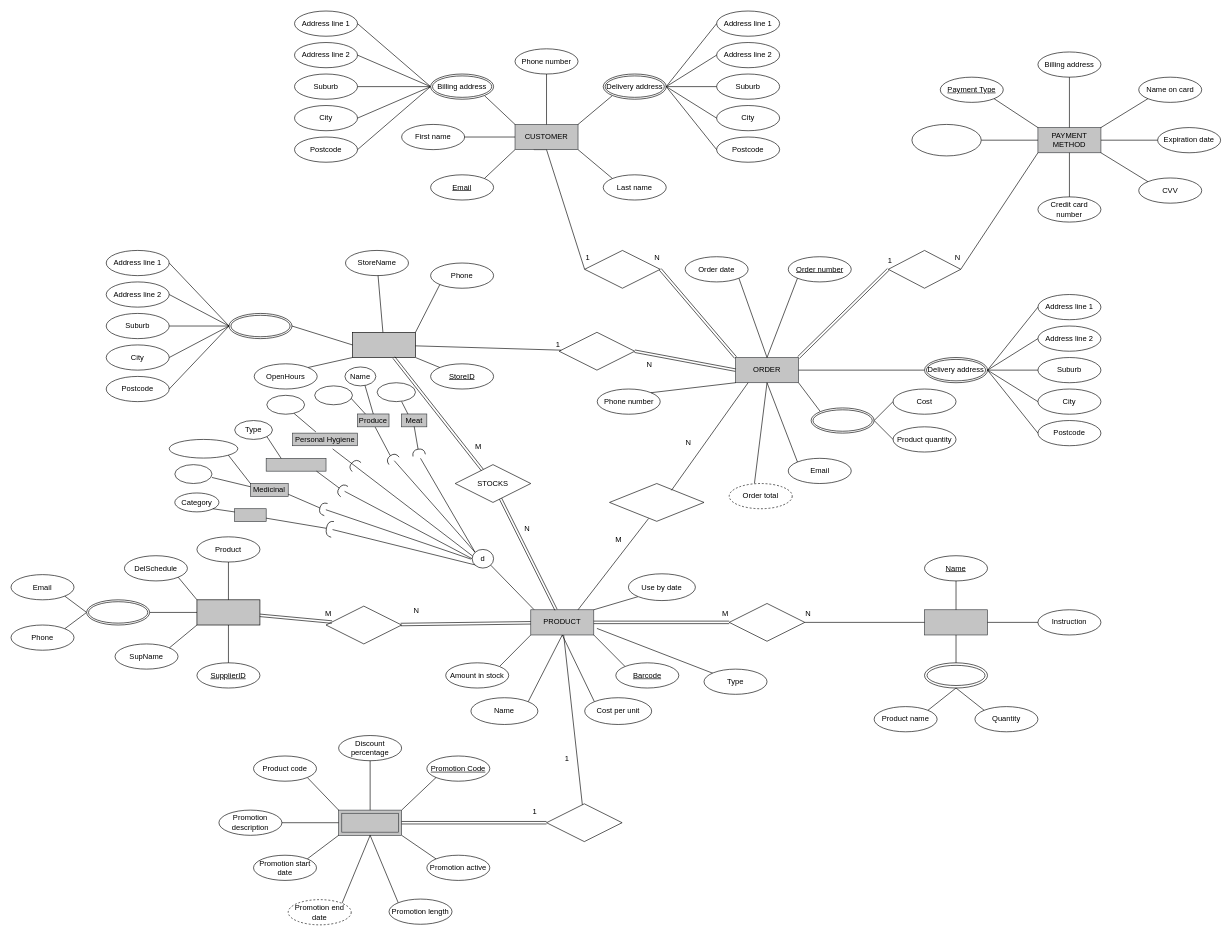
Some shapes in this 1232 by 936 pixel diagram are drawn without their labels. Each missing label, with the centre of its shape:
Active Ingredient: the point at 203,448
Address: the point at 260,326
Animal: the point at 395,392
Confectionary: the point at 296,464
Contact: the point at 118,612
CONTAINS: the point at 656,502
Dairy: the point at 250,515
Dosage: the point at 193,474
FULFILLS: the point at 596,351
INCLUDES: the point at 924,269
Ingredient: the point at 956,675
OFFERS: the point at 584,822
Organic: the point at 333,395
Payment method fees: the point at 946,140
PLACES: the point at 622,269
Products: the point at 842,420
PROMOTION: the point at 370,822
RECIPE: the point at 956,622
REQUIRES: the point at 767,622
Scent: the point at 285,404
STORE: the point at 383,345
SUPPLIER: the point at 228,612
SUPPLIES: the point at 363,624
